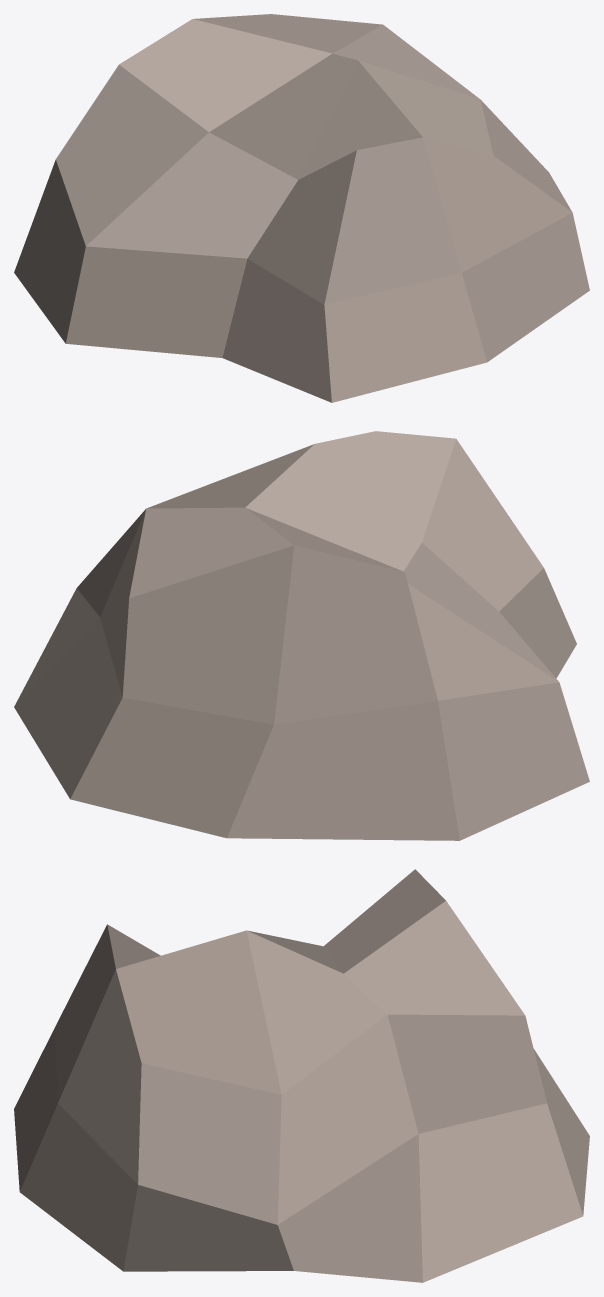
The model's file is SM_Rock2.fbx.
3 views of the same model, one above another, from view 1: azimuth 30°, elevation 25°; view 2: azimuth 150°, elevation 25°; view 3: azimuth 270°, elevation 25° (orthographic). The views are drawn at different scales.
Visible parts, largest first — view 1: Rock2; view 2: Rock2; view 3: Rock2.
Part boxes in pixels (x1,y1,x2,y2): Rock2: (14,14,589,402); Rock2: (14,431,589,840); Rock2: (14,869,589,1282).
Size of the model in its own units: 9.31 by 4.29 by 8.99.
